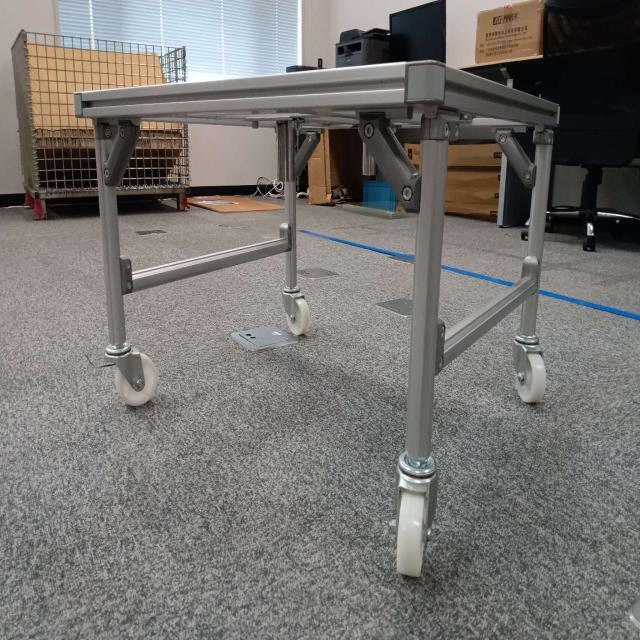door: (100, 63, 432, 207)
